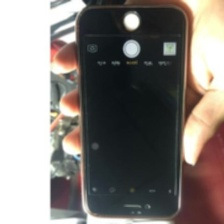phone: (72, 0, 192, 222)
